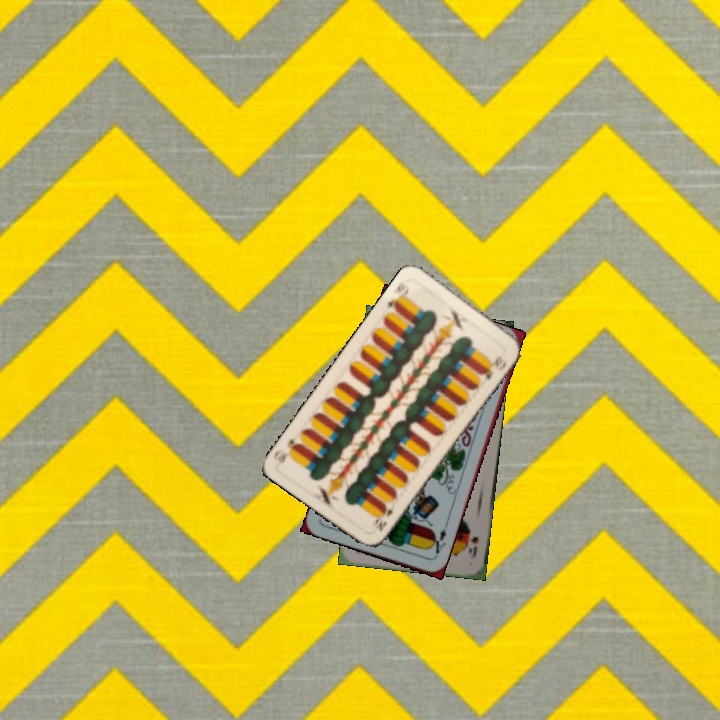E10: (382, 279, 412, 314), (371, 499, 398, 534)
EA: (426, 520, 450, 560)
SO: (464, 525, 481, 560)
